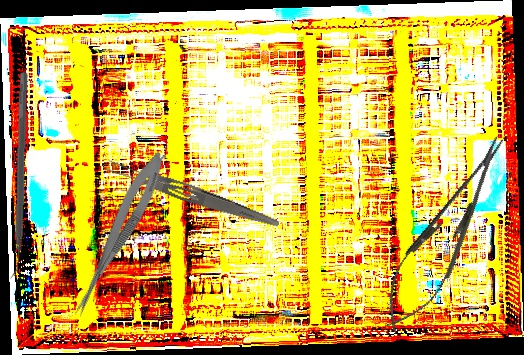Dressing Forceps: (102, 156, 283, 231)
Micro Scissor: (68, 147, 172, 323)
Needle Holder: (368, 124, 524, 343)
Spatula Surgical: (7, 71, 28, 282)
